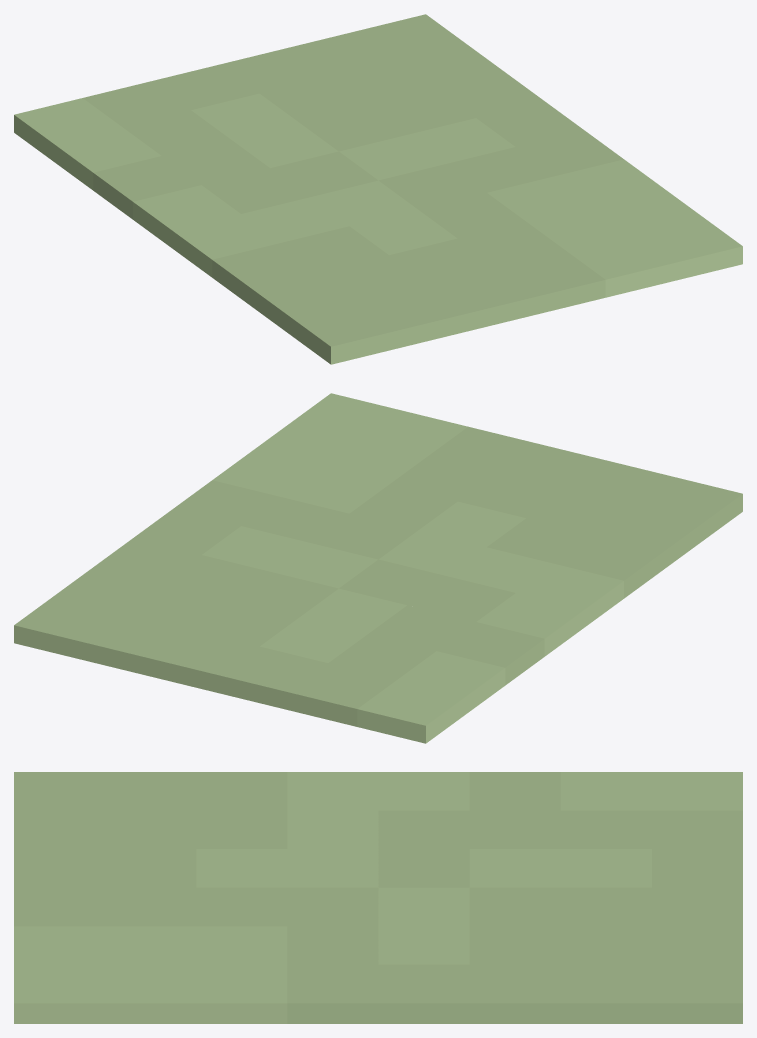
The model's file is pig_pen.glb.
3 views of the same model, one above another, from view 1: azimuth 30°, elevation 25°; view 2: azimuth 150°, elevation 25°; view 3: azimuth 270°, elevation 25° (orthographic). The views are drawn at different scales.
Visible parts, largest first — view 1: pig_pen; view 2: pig_pen; view 3: pig_pen.
Part boxes in pixels (x1,y1,x2,y2): pig_pen: (14, 14, 742, 364); pig_pen: (14, 393, 742, 743); pig_pen: (14, 772, 742, 1023).
Size of the model in its own units: 3 by 0.125 by 4.
